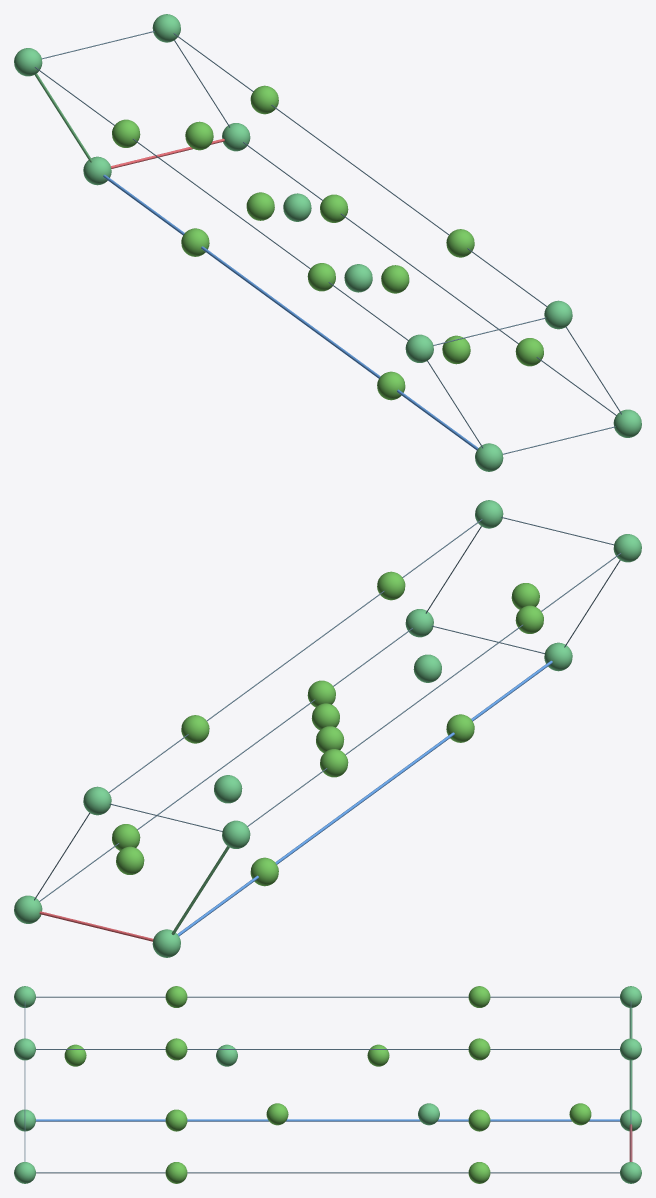
File: chat-magnesium-chloride.glb
3 views of the same model, one above another, from view 1: azimuth 30°, elevation 25°; view 2: azimuth 150°, elevation 25°; view 3: azimuth 270°, elevation 25° (orthographic). The views are drawn at different scales.
Parts seen in each view (by area): view 1: Cl · Cl · 1 (×12), Mg · Mg · 1 (×9), Ô mạng và các trục a, b, c; view 2: Mg · Mg · 1 (×10), Ô mạng và các trục a, b, c, Cl · Cl · 1 (×7); view 3: Ô mạng và các trục a, b, c, Cl · Cl · 1 (×12), Mg · Mg · 1 (×10).
Part boxes in pixels (left/top/right/bottom): Cl · Cl · 1 (×12): left=112, top=85, right=543, bottom=400; Mg · Mg · 1 (×9): left=14, top=14, right=641, bottom=471; Ô mạng và các trục a, b, c: left=35, top=31, right=621, bottom=454; Mg · Mg · 1 (×10): left=14, top=500, right=641, bottom=957; Ô mạng và các trục a, b, c: left=34, top=517, right=620, bottom=941; Cl · Cl · 1 (×7): left=116, top=571, right=543, bottom=886; Ô mạng và các trục a, b, c: left=24, top=996, right=632, bottom=1173; Cl · Cl · 1 (×12): left=64, top=986, right=591, bottom=1183; Mg · Mg · 1 (×10): left=14, top=986, right=641, bottom=1183.
Bounding box in the file's own units: 6.03 × 3.75 × 18.23.
